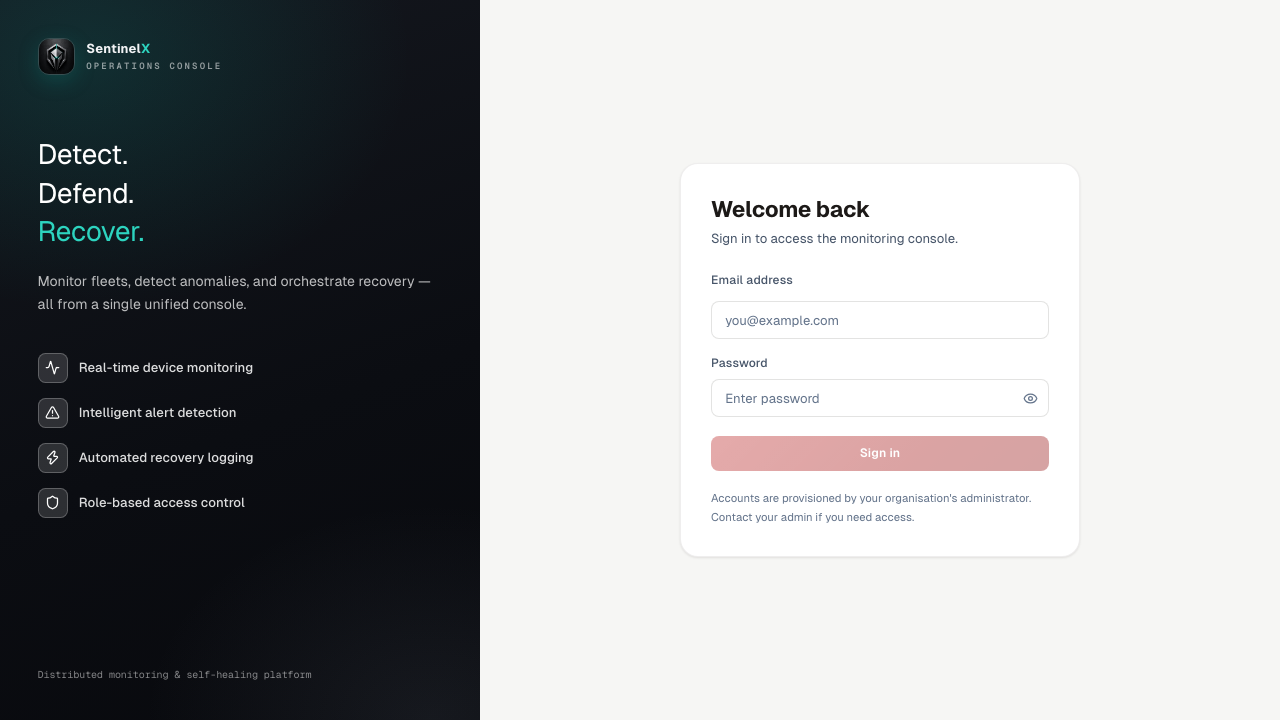
Scenario: failure states › reports a deactivated account rather than a generic failure
Type "ops@technova.io" into the field labelled "Email address" at (880, 320), box [711,302,1049,340]
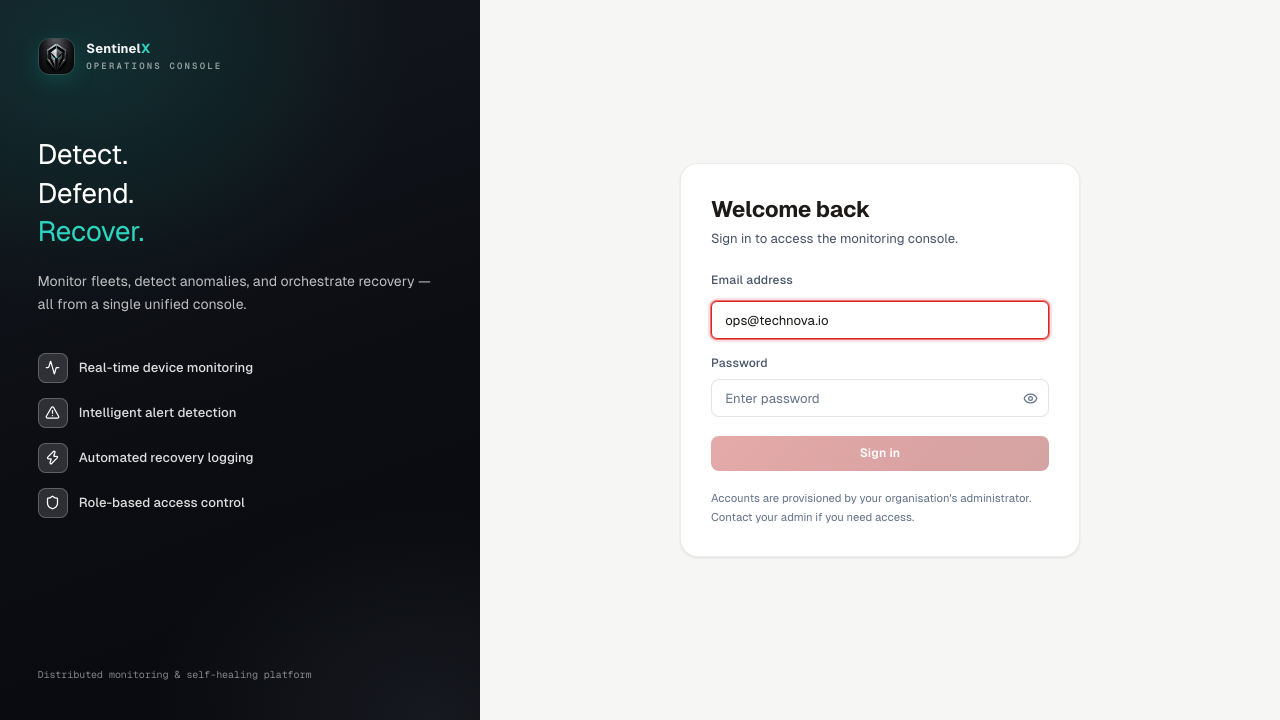
Type "SentinelX2026!" into the password field labelled "Password" at (880, 398), box [711,379,1049,417]
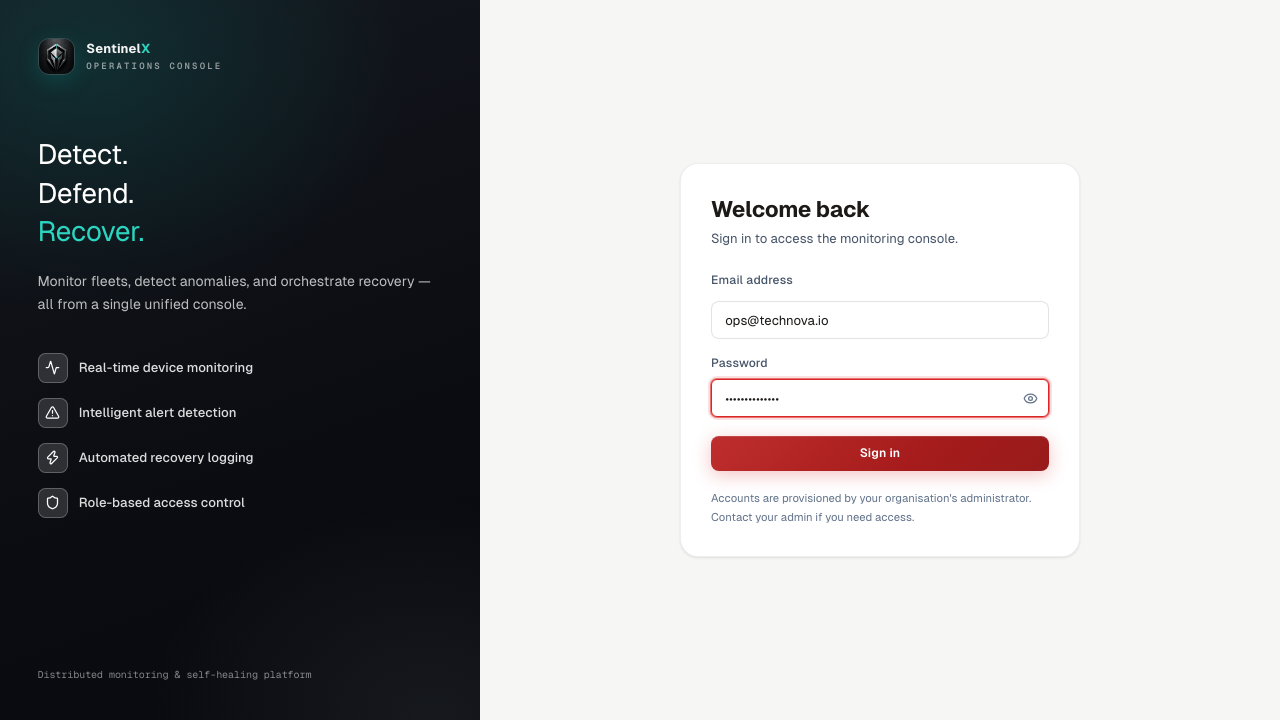
Click the button "Sign in" at (880, 453), box [711,436,1049,470]
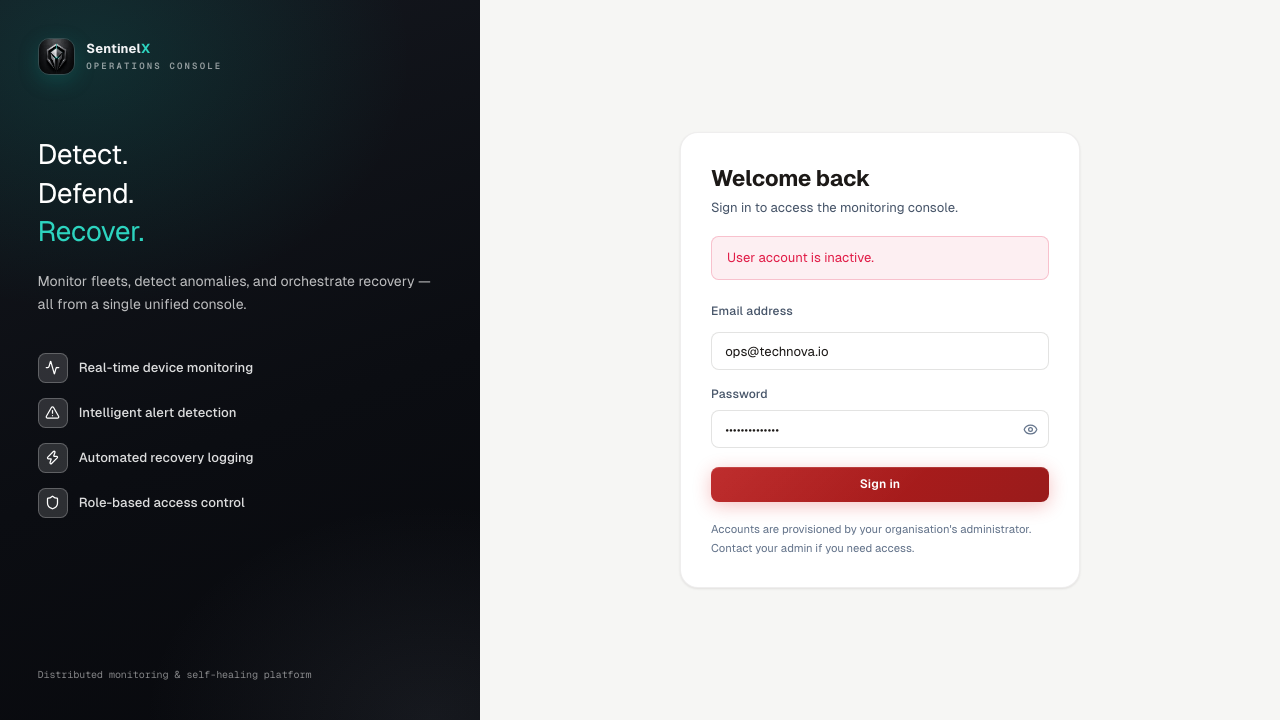
Now the text "User account is inactive." is shown, box [711,236,1049,280]
